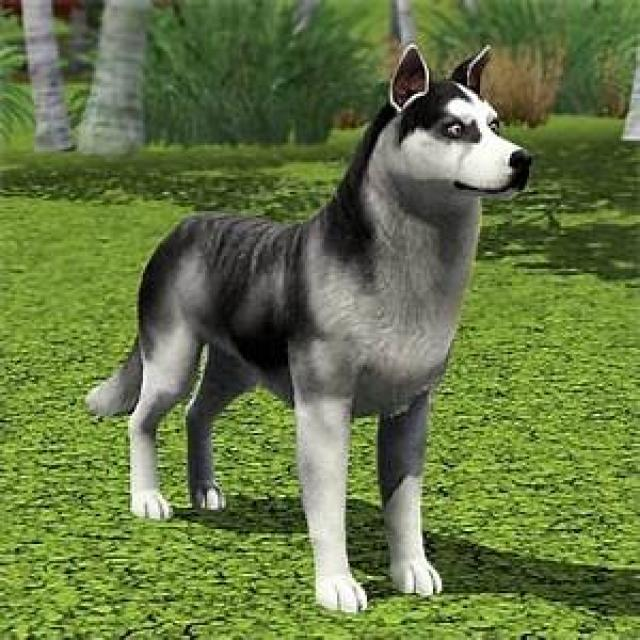dog: (88, 46, 531, 612)
